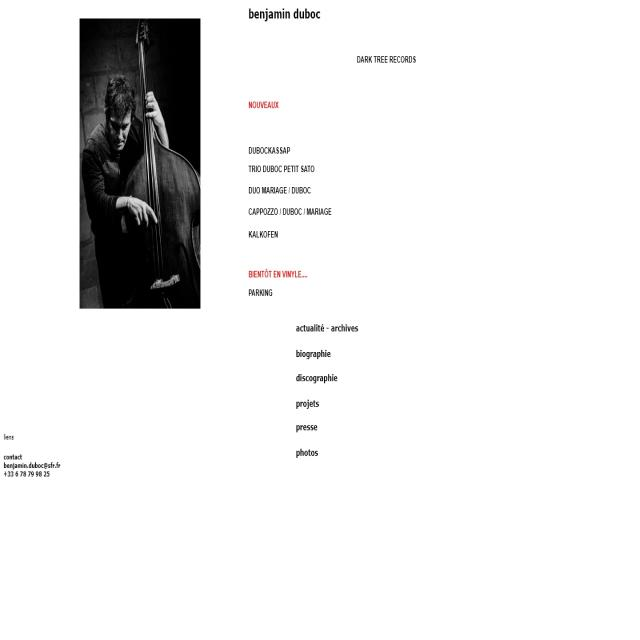heading: (244, 6, 328, 25), (355, 51, 419, 70), (249, 265, 313, 282), (248, 95, 280, 112)
image: (80, 16, 203, 307)
text: (290, 317, 368, 461), (244, 143, 341, 250), (1, 432, 70, 485), (248, 288, 277, 300)
